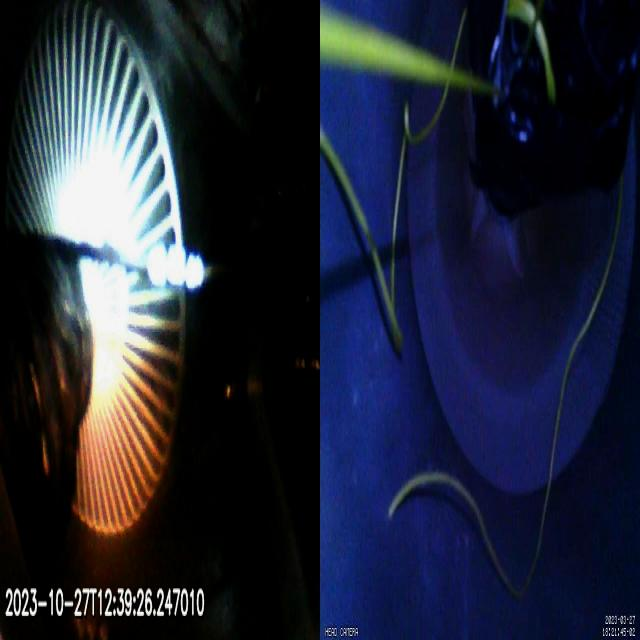white-dots: (148, 243, 205, 292)
